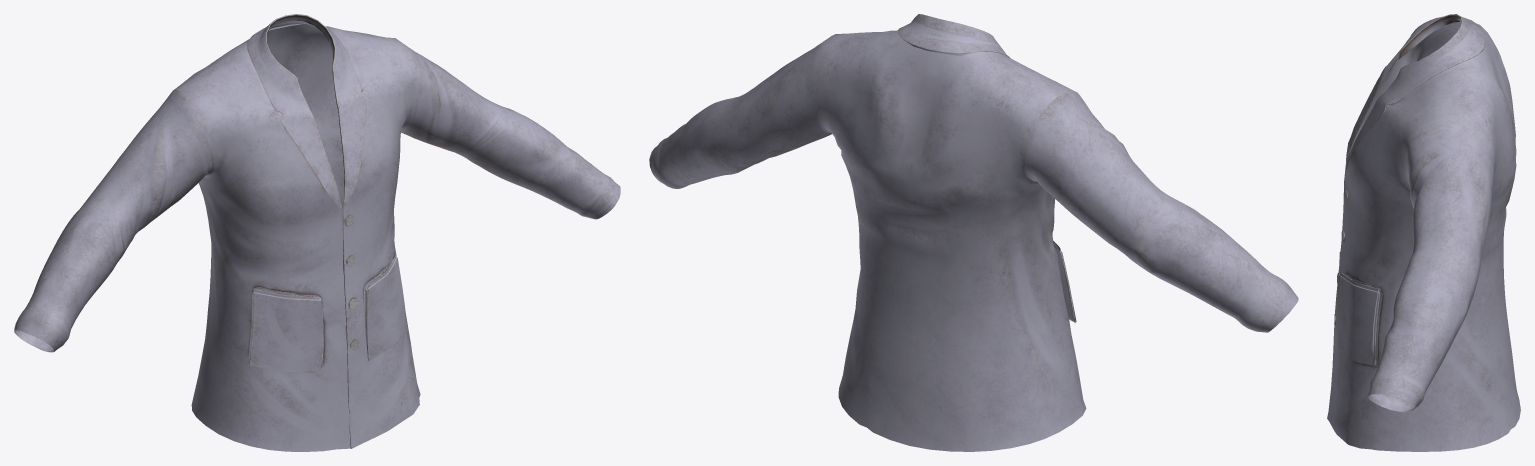
3 views of the same model, side by side, from view 1: azimuth 30°, elevation 25°; view 2: azimuth 150°, elevation 25°; view 3: azimuth 270°, elevation 25° (orthographic). The views are drawn at different scales.
Visible parts, largest first — view 1: Object_2; view 2: Object_2; view 3: Object_2.
Part boxes in pixels (x1=…): Object_2: x1=14, y1=14, x2=620, y2=451; Object_2: x1=649, y1=14, x2=1298, y2=451; Object_2: x1=1327, y1=14, x2=1520, y2=451.
Bounding box in the file's own units: 5.54 × 3.41 × 1.51.
Materials: 1 (1 with a texture image).
